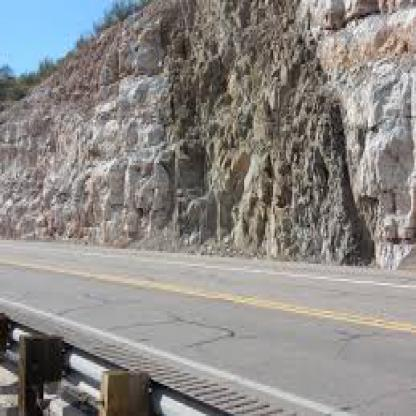Igneous_Diorite: (284, 107, 362, 262), (180, 19, 223, 129)
